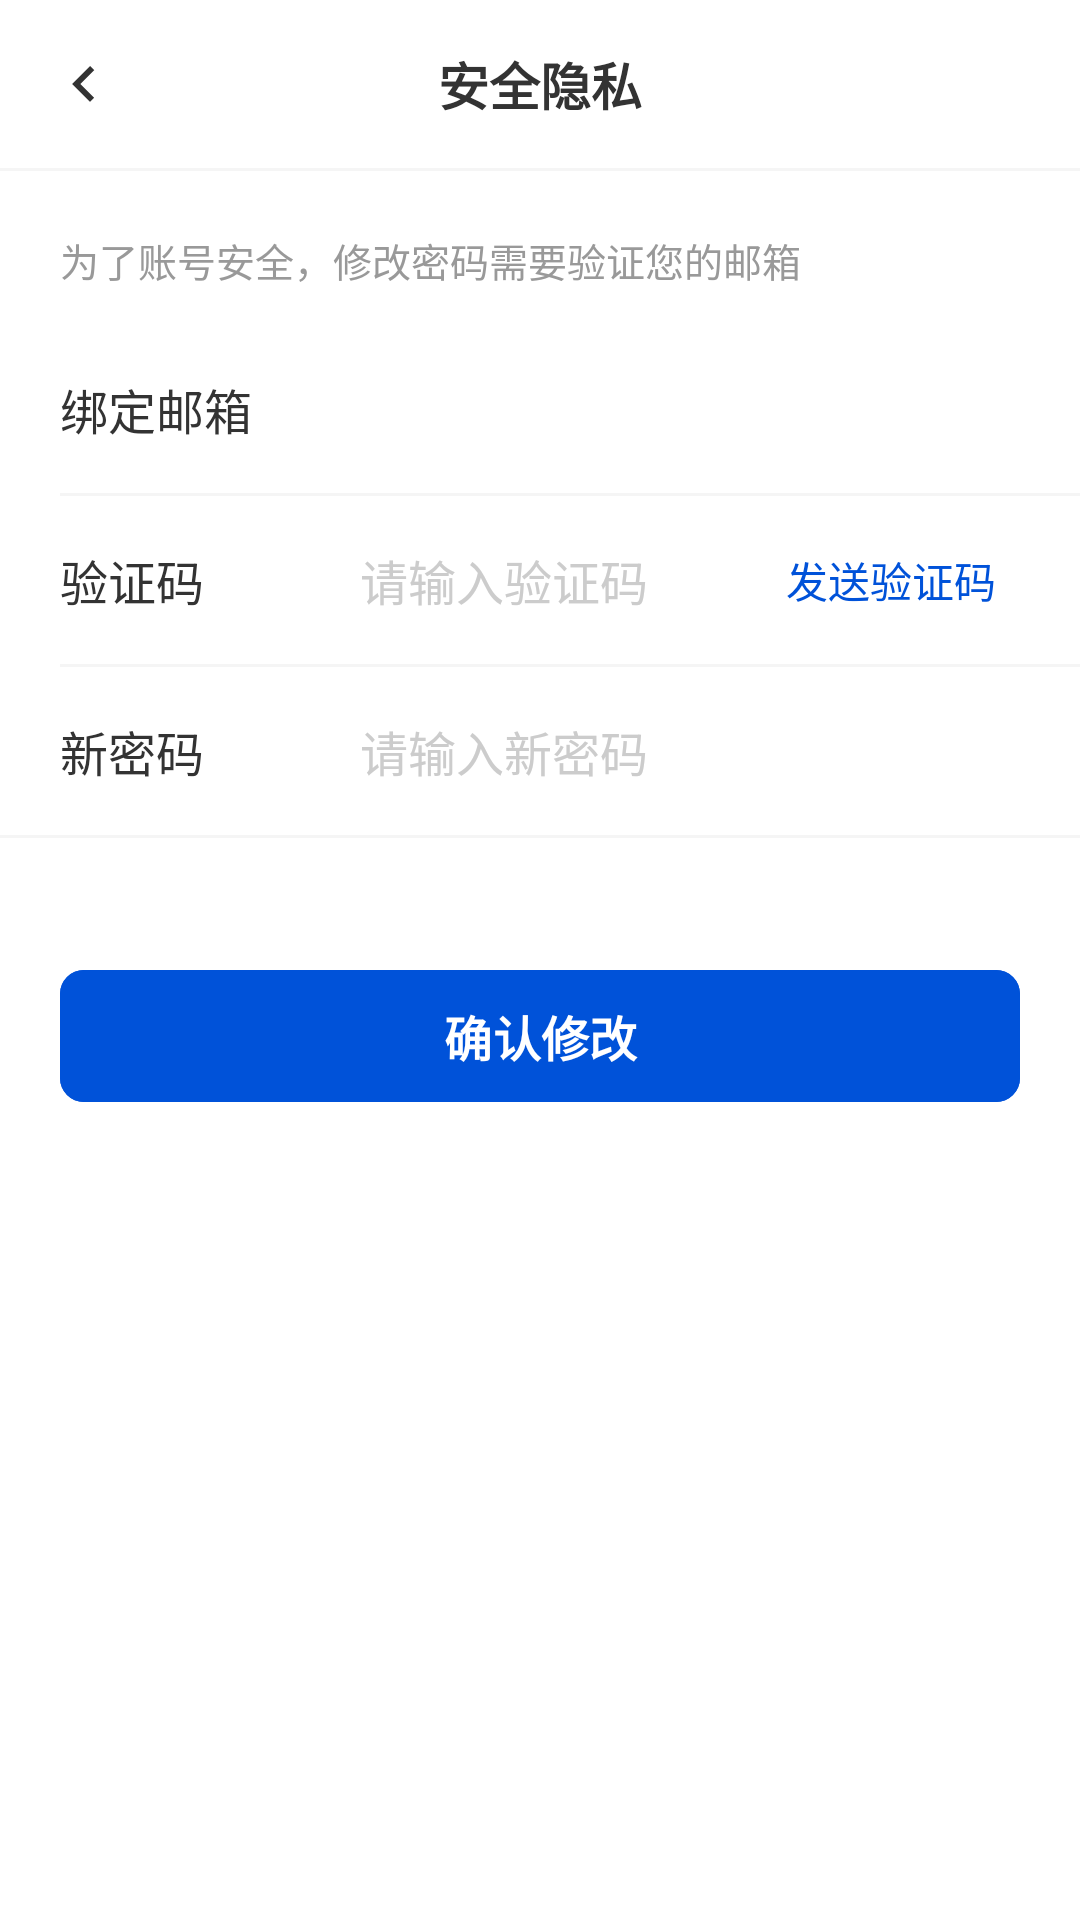

Locate icon controls on the screen. Image size 1080*1920, boxes as [x1=x1, y1=y1, x2=x2, y2=y2].
chevron left: [x1=72, y1=66, x2=94, y2=102]
